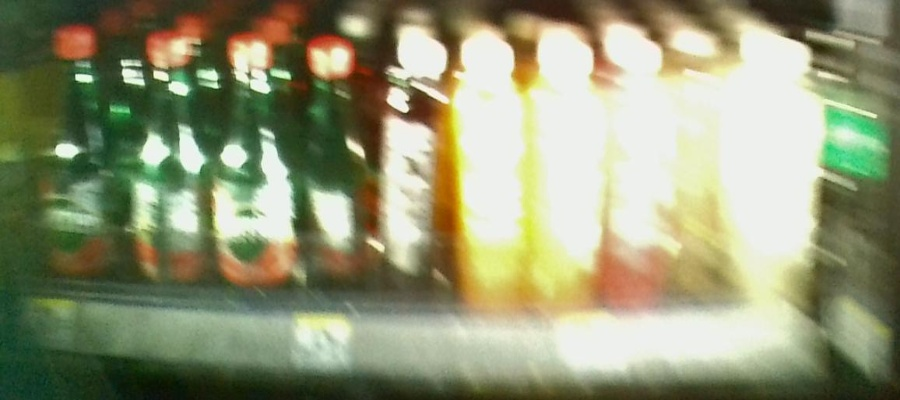bottle: (531, 37, 608, 312), (213, 36, 297, 288), (131, 27, 209, 284), (43, 23, 120, 276), (456, 41, 525, 320), (378, 36, 450, 300), (613, 37, 680, 312), (301, 37, 371, 293)
